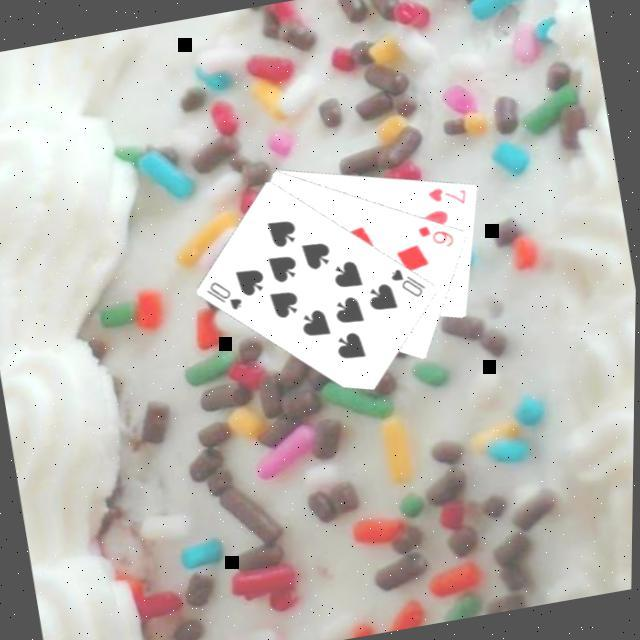10S: (202, 272, 249, 316), (386, 260, 432, 303)
6D: (415, 216, 460, 252)
7H: (424, 178, 472, 211)
